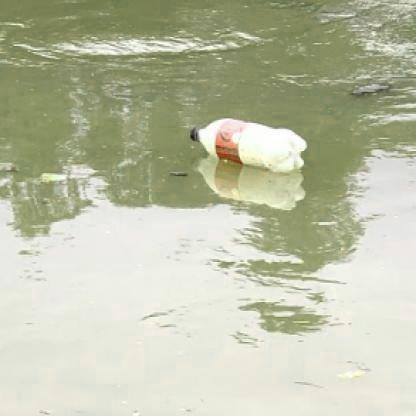Plastic: (188, 115, 307, 179)
